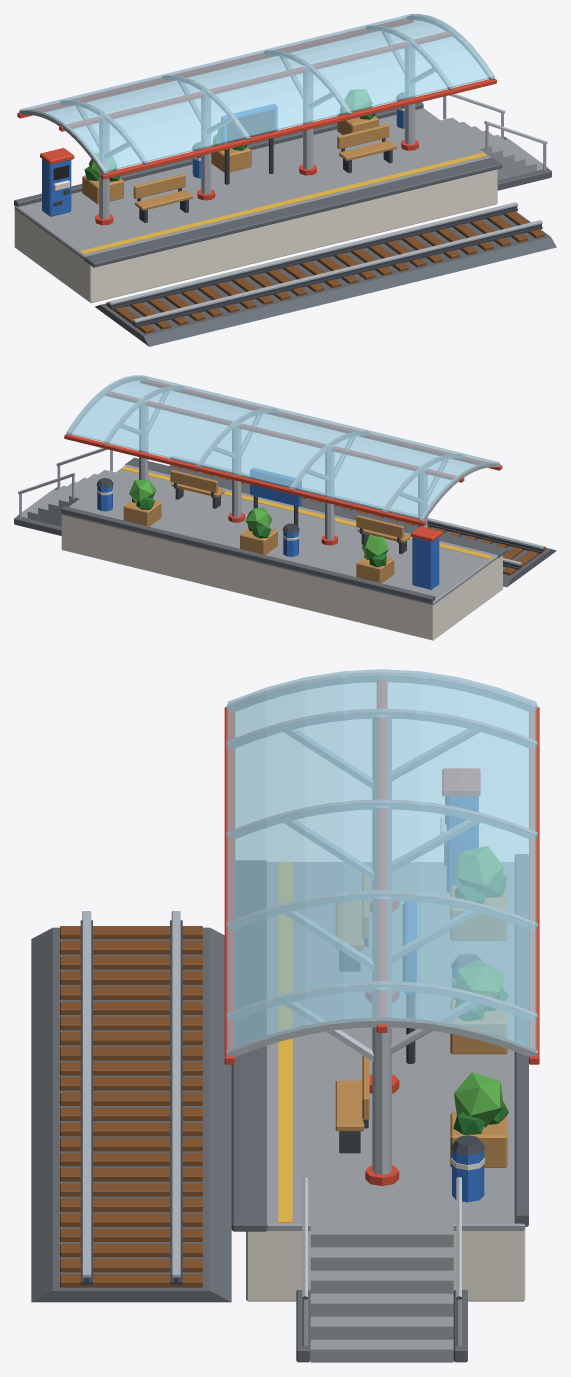
File: modern-train-platform.glb
The picture shows the model from 3 angles, top to bottom: view 1: azimuth 30°, elevation 25°; view 2: azimuth 150°, elevation 25°; view 3: azimuth 270°, elevation 25°; orthographic projection. The views are drawn at different scales.
Visible parts, largest first — view 1: Canopy_Glass, Platform_Deck, Platform_Base, Track_Ballast, Platform_Coping, Canopy_Beam, Canopy_Beam.001, Stairs, Canopy_Beam.002, Track_RailHead.001, Track_RailHead, SafetyLine (+27 smaller); view 2: Canopy_Glass, Platform_Base, Platform_Deck, Platform_BackKerb, Canopy_Beam.002, Platform_Coping, Canopy_Beam.001, Canopy_Beam, Stairs, TicketMachine_Body, Track_RailHead, Board_Frame (+25 smaller); view 3: Canopy_Glass, Platform_Deck, Track_Ballast, Stairs, Platform_Coping, Platform_Base, Platform_BackKerb, SafetyLine, Track_RailHead, Track_RailHead.001, Canopy_Beam, Canopy_Beam.002 (+53 smaller).
Boxes of the visible parts, bbox=[...] form: Canopy_Glass: bbox=[19, 14, 494, 172]; Platform_Deck: bbox=[14, 108, 490, 259]; Platform_Base: bbox=[14, 169, 497, 303]; Track_Ballast: bbox=[95, 211, 556, 346]; Platform_Coping: bbox=[84, 157, 502, 267]; Canopy_Beam: bbox=[100, 79, 496, 179]; Canopy_Beam.001: bbox=[59, 31, 451, 131]; Stairs: bbox=[441, 117, 547, 180]; Canopy_Beam.002: bbox=[17, 18, 413, 118]; Track_RailHead.001: bbox=[108, 202, 518, 304]; Track_RailHead: bbox=[133, 220, 542, 322]; SafetyLine: bbox=[79, 152, 487, 254]; Canopy_Glass: bbox=[66, 375, 499, 519]; Platform_Base: bbox=[61, 514, 502, 640]; Platform_Deck: bbox=[62, 464, 497, 605]; Platform_BackKerb: bbox=[61, 506, 435, 603]; Canopy_Beam.002: bbox=[64, 434, 425, 526]; Platform_Coping: bbox=[125, 457, 507, 558]; Canopy_Beam.001: bbox=[105, 391, 464, 482]; Canopy_Beam: bbox=[140, 379, 502, 470]; Stairs: bbox=[17, 470, 115, 526]; TicketMachine_Body: bbox=[412, 537, 439, 589]; Track_RailHead: bbox=[170, 455, 543, 549]; Board_Frame: bbox=[250, 468, 301, 506]; Canopy_Glass: bbox=[227, 669, 536, 1051]; Platform_Deck: bbox=[267, 862, 525, 1230]; Track_Ballast: bbox=[31, 927, 231, 1302]; Stairs: bbox=[310, 1224, 453, 1362]; Platform_Coping: bbox=[231, 860, 267, 1231]; Platform_Base: bbox=[246, 1230, 525, 1301]; Platform_BackKerb: bbox=[514, 854, 528, 1226]; SafetyLine: bbox=[278, 862, 292, 1222]; Track_RailHead: bbox=[82, 911, 91, 1277]; Track_RailHead.001: bbox=[171, 911, 180, 1277]; Canopy_Beam: bbox=[224, 707, 235, 1064]; Canopy_Beam.002: bbox=[529, 707, 539, 1064].
Size of the model in its own units: 56.1 by 17.1 by 28.4.
